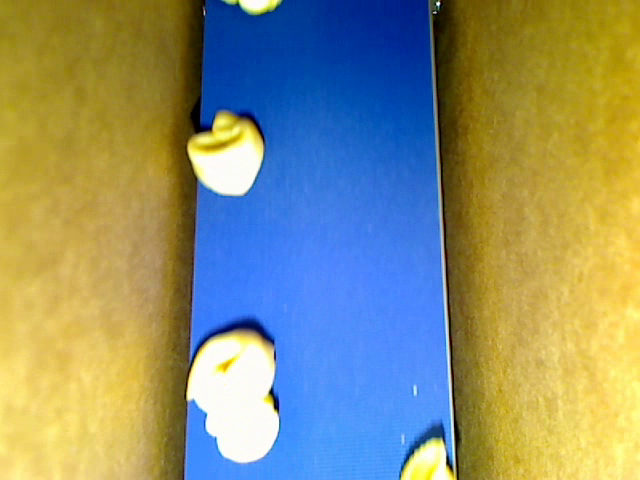shell: (400, 436, 457, 479)
tortellini: (186, 327, 276, 411), (188, 109, 263, 196)
